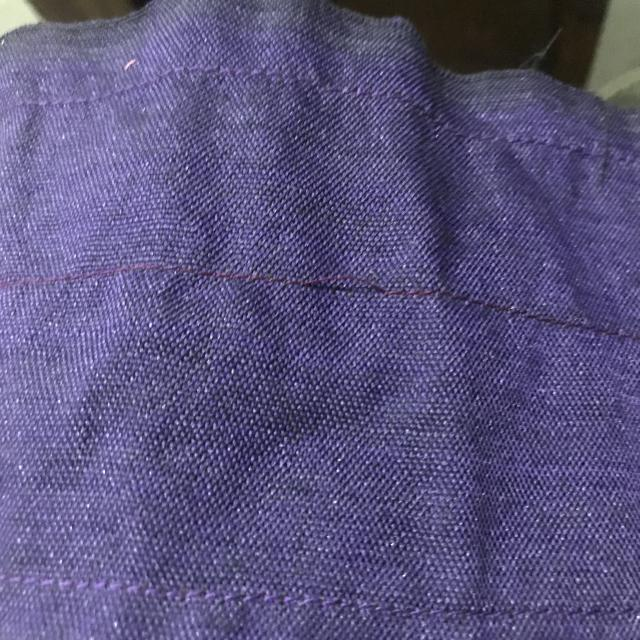skip: (285, 245, 415, 322)
